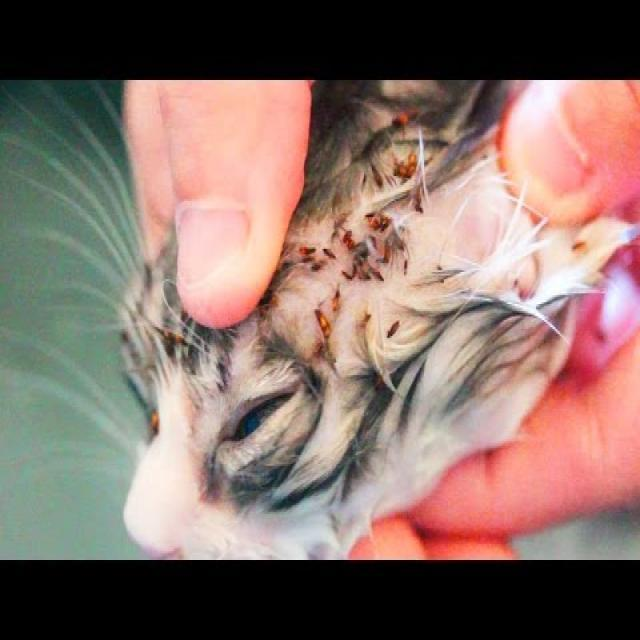di ung bo chet: (271, 100, 459, 403)
